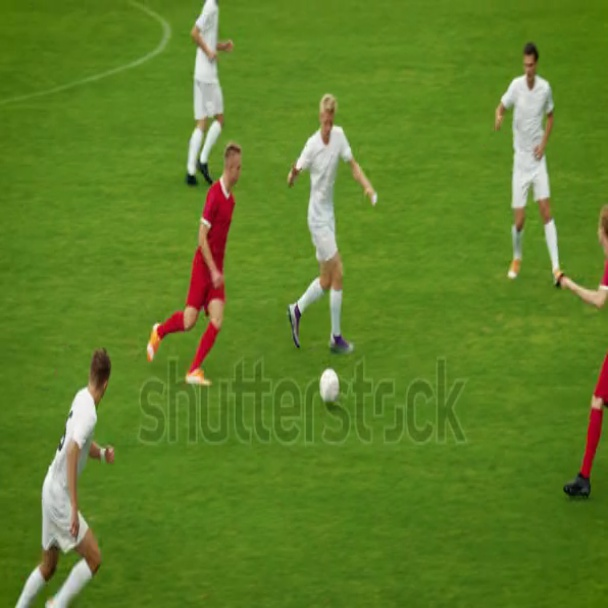ball: (314, 364, 344, 410)
